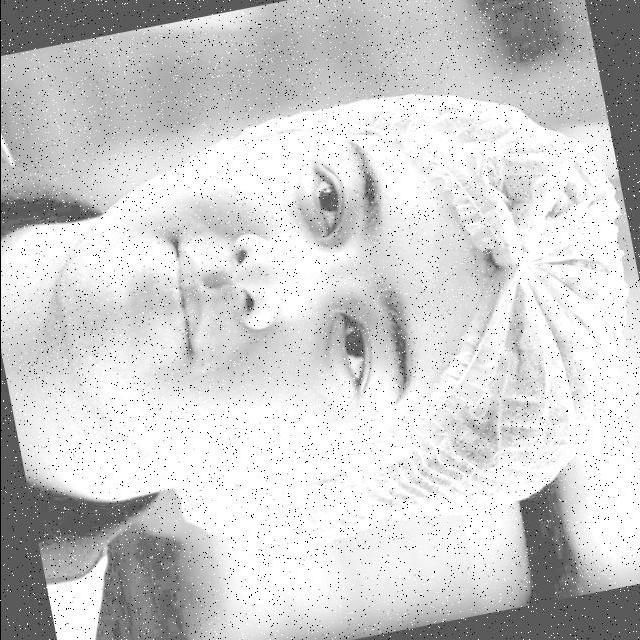no_hairnet: (155, 196, 331, 442)
